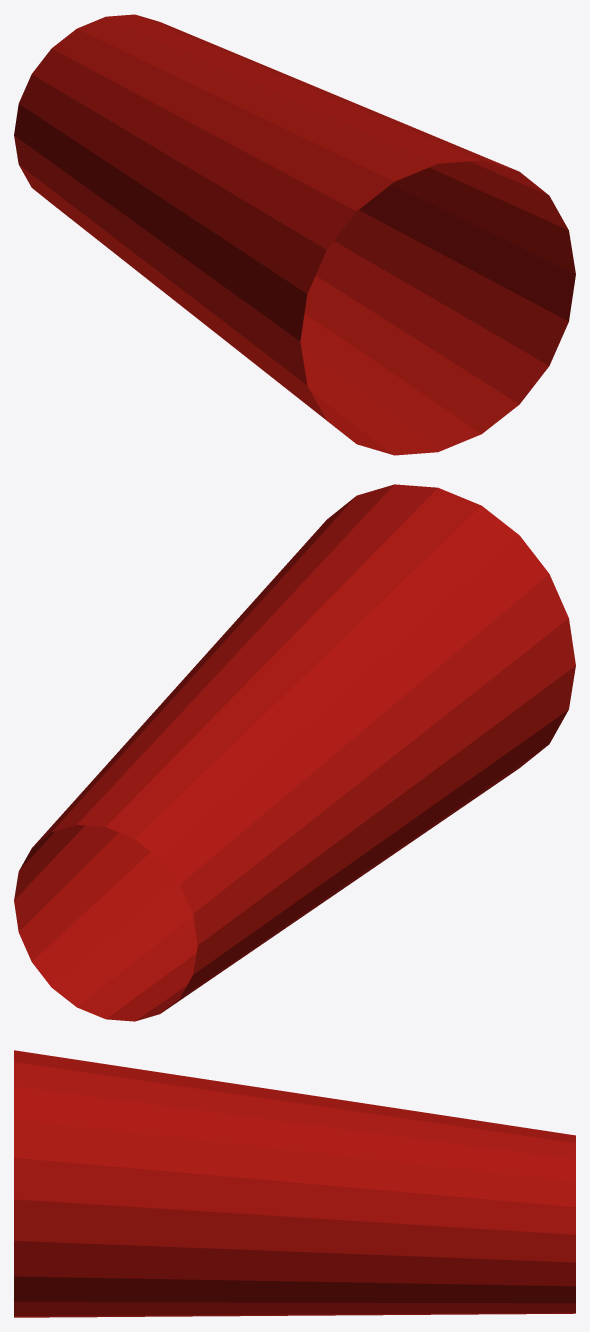
File: Vessel_scale150_to_100_inside.fbx
3 views of the same model, one above another, from view 1: azimuth 30°, elevation 25°; view 2: azimuth 150°, elevation 25°; view 3: azimuth 270°, elevation 25° (orthographic). The views are drawn at different scales.
Visible parts, largest first — view 1: Vessel_scale150_to_100; view 2: Vessel_scale150_to_100; view 3: Vessel_scale150_to_100.
Part boxes in pixels (left/top/right/bottom): Vessel_scale150_to_100: left=14, top=14, right=575, bottom=455; Vessel_scale150_to_100: left=14, top=484, right=575, bottom=1021; Vessel_scale150_to_100: left=14, top=1050, right=575, bottom=1317.
Bounding box in the file's own units: 9.58 × 9.58 × 20.
